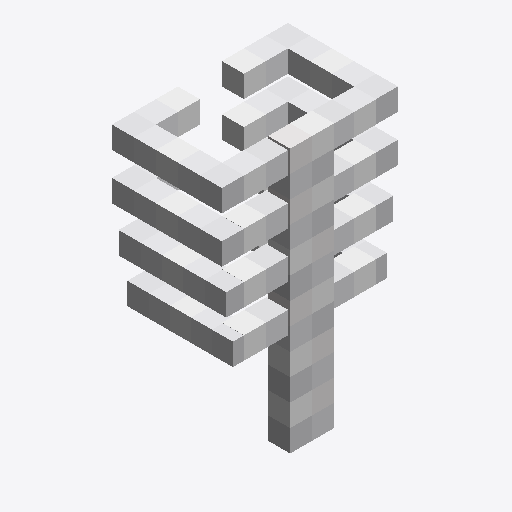
Isometric view (azimuth 45°, elevation 35.3°) of a Minecraft model made of 21 cuboids, textured from the same repository.
Visible parts, largest first — element 1, element 6, element 11, element 12, element 2, element 20, element 4, element 3, element 5, element 13, element 21, element 18 (+7 smaller).
Boxes of the visible parts, <box> form: element 1: <box>268,111,333,452</box>; element 6: <box>134,125,243,212</box>; element 11: <box>134,178,243,266</box>; element 12: <box>141,231,243,316</box>; element 2: <box>223,87,375,200</box>; element 20: <box>288,36,397,123</box>; element 4: <box>222,193,375,306</box>; element 3: <box>223,140,375,253</box>; element 5: <box>222,247,375,359</box>; element 13: <box>149,284,243,366</box>; element 21: <box>222,23,309,98</box>; element 18: <box>222,77,308,150</box>.
Size of the model in its own units: 8 by 12 by 5.1.